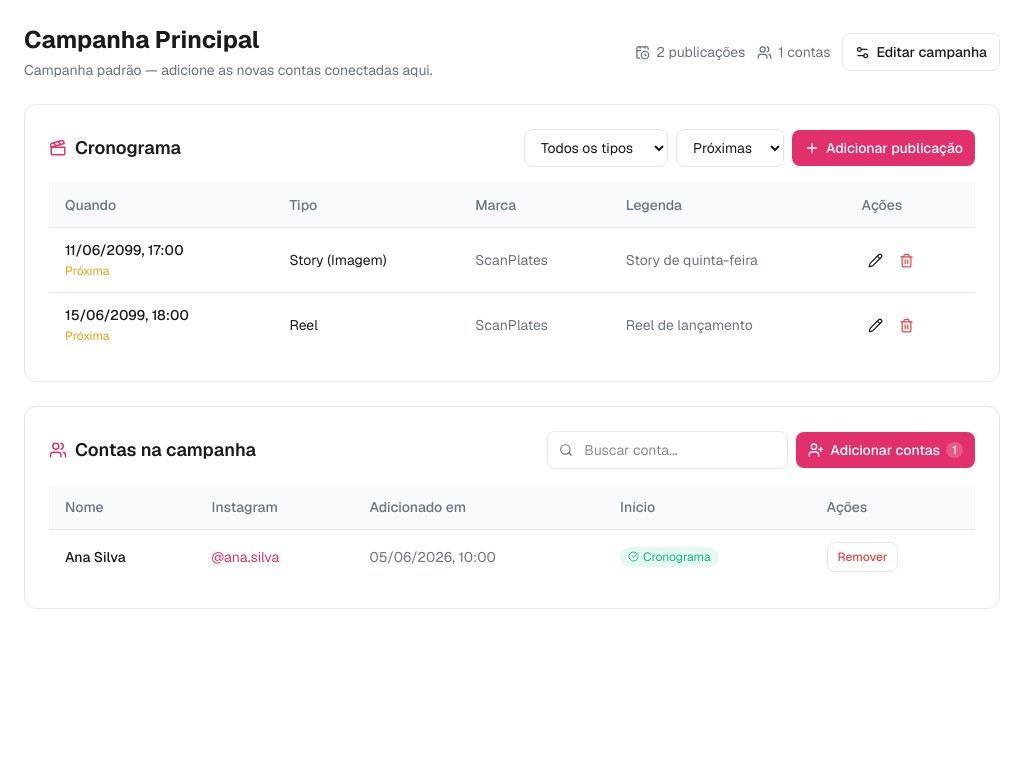
Test: AdminCampaign › opens the add-item modal with type, upload, media URL and datetime fields
Click the button "Adicionar publicação" at (884,148), box [792,130,975,166]
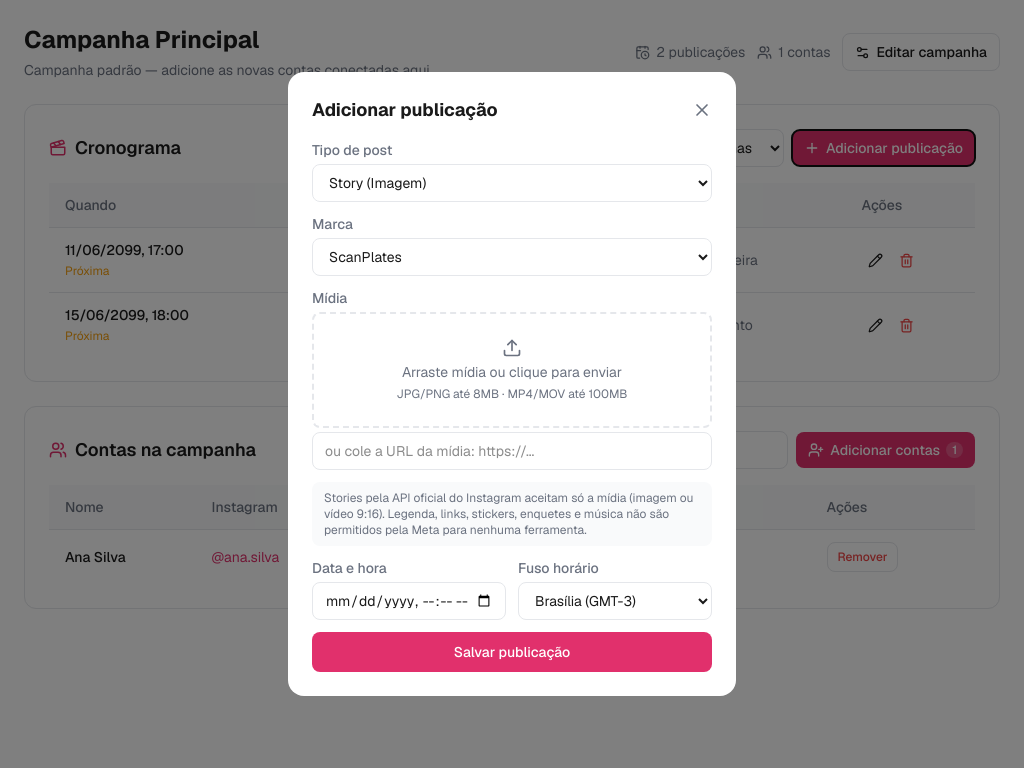
Expected: the dropdown labelled "Tipo de post" is shown, [312,164,712,202]
Expected: the text "Arraste mídia ou clique para enviar" is shown, [402,363,622,381]
Expected: the field with placeholder "ou cole a URL da mídia: https://..." is shown, [312,432,712,470]
